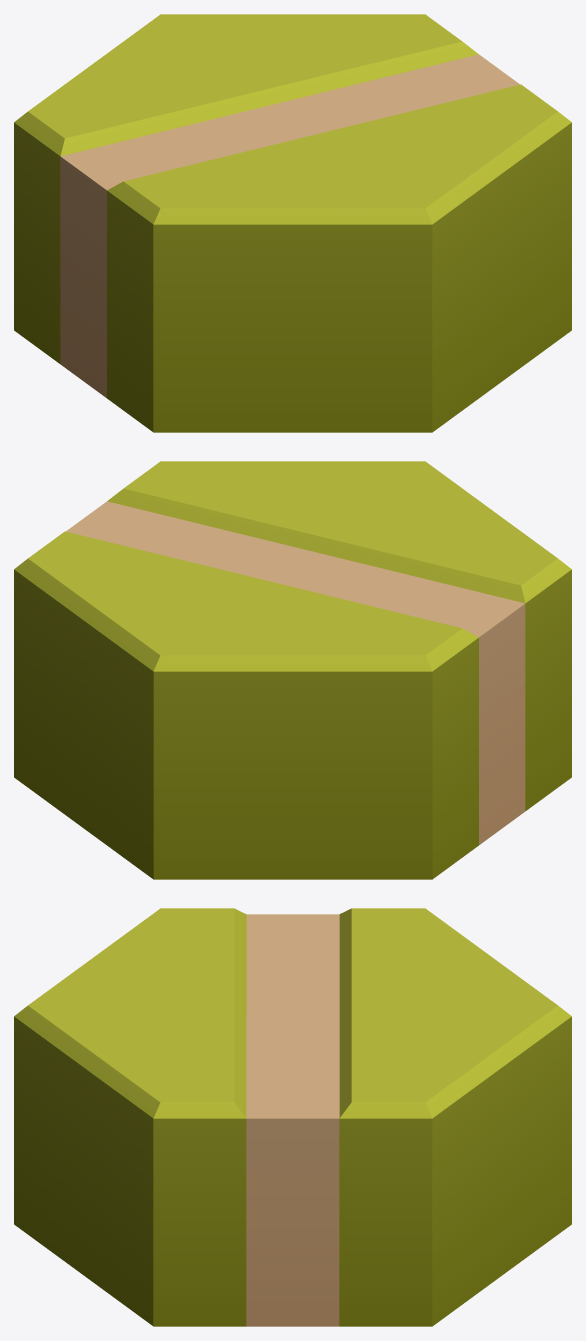
Rendered from hex_road_A.glb.
The picture shows the model from 3 angles, top to bottom: view 1: azimuth 30°, elevation 25°; view 2: azimuth 150°, elevation 25°; view 3: azimuth 270°, elevation 25°; orthographic projection.
Visible parts, largest first — view 1: hex_road_A; view 2: hex_road_A; view 3: hex_road_A.
Boxes of the visible parts, box(x1,y1,x2,y2) form: hex_road_A: box(14, 14, 571, 432); hex_road_A: box(14, 461, 571, 879); hex_road_A: box(14, 908, 571, 1326).
Bounding box in the file's own units: 2 × 1 × 2.31.
1 material, 1 textured.
